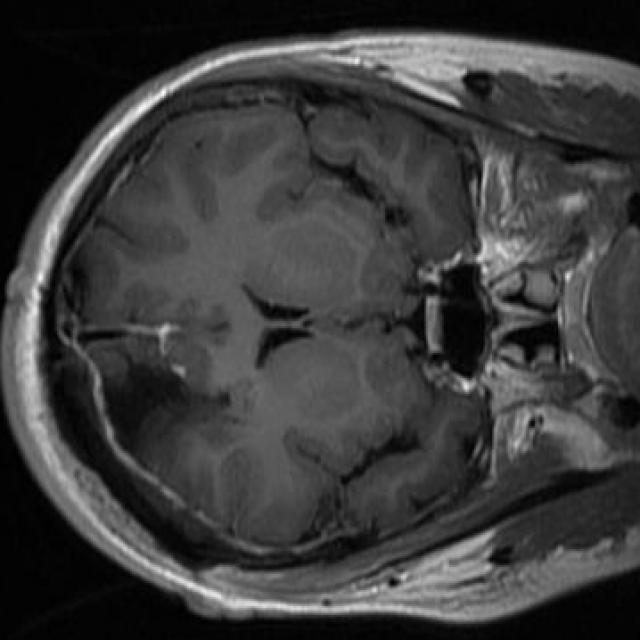glioma: (102, 364, 230, 464)
